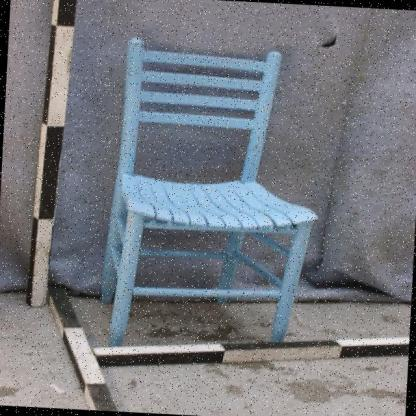Chair: (74, 33, 343, 368)
